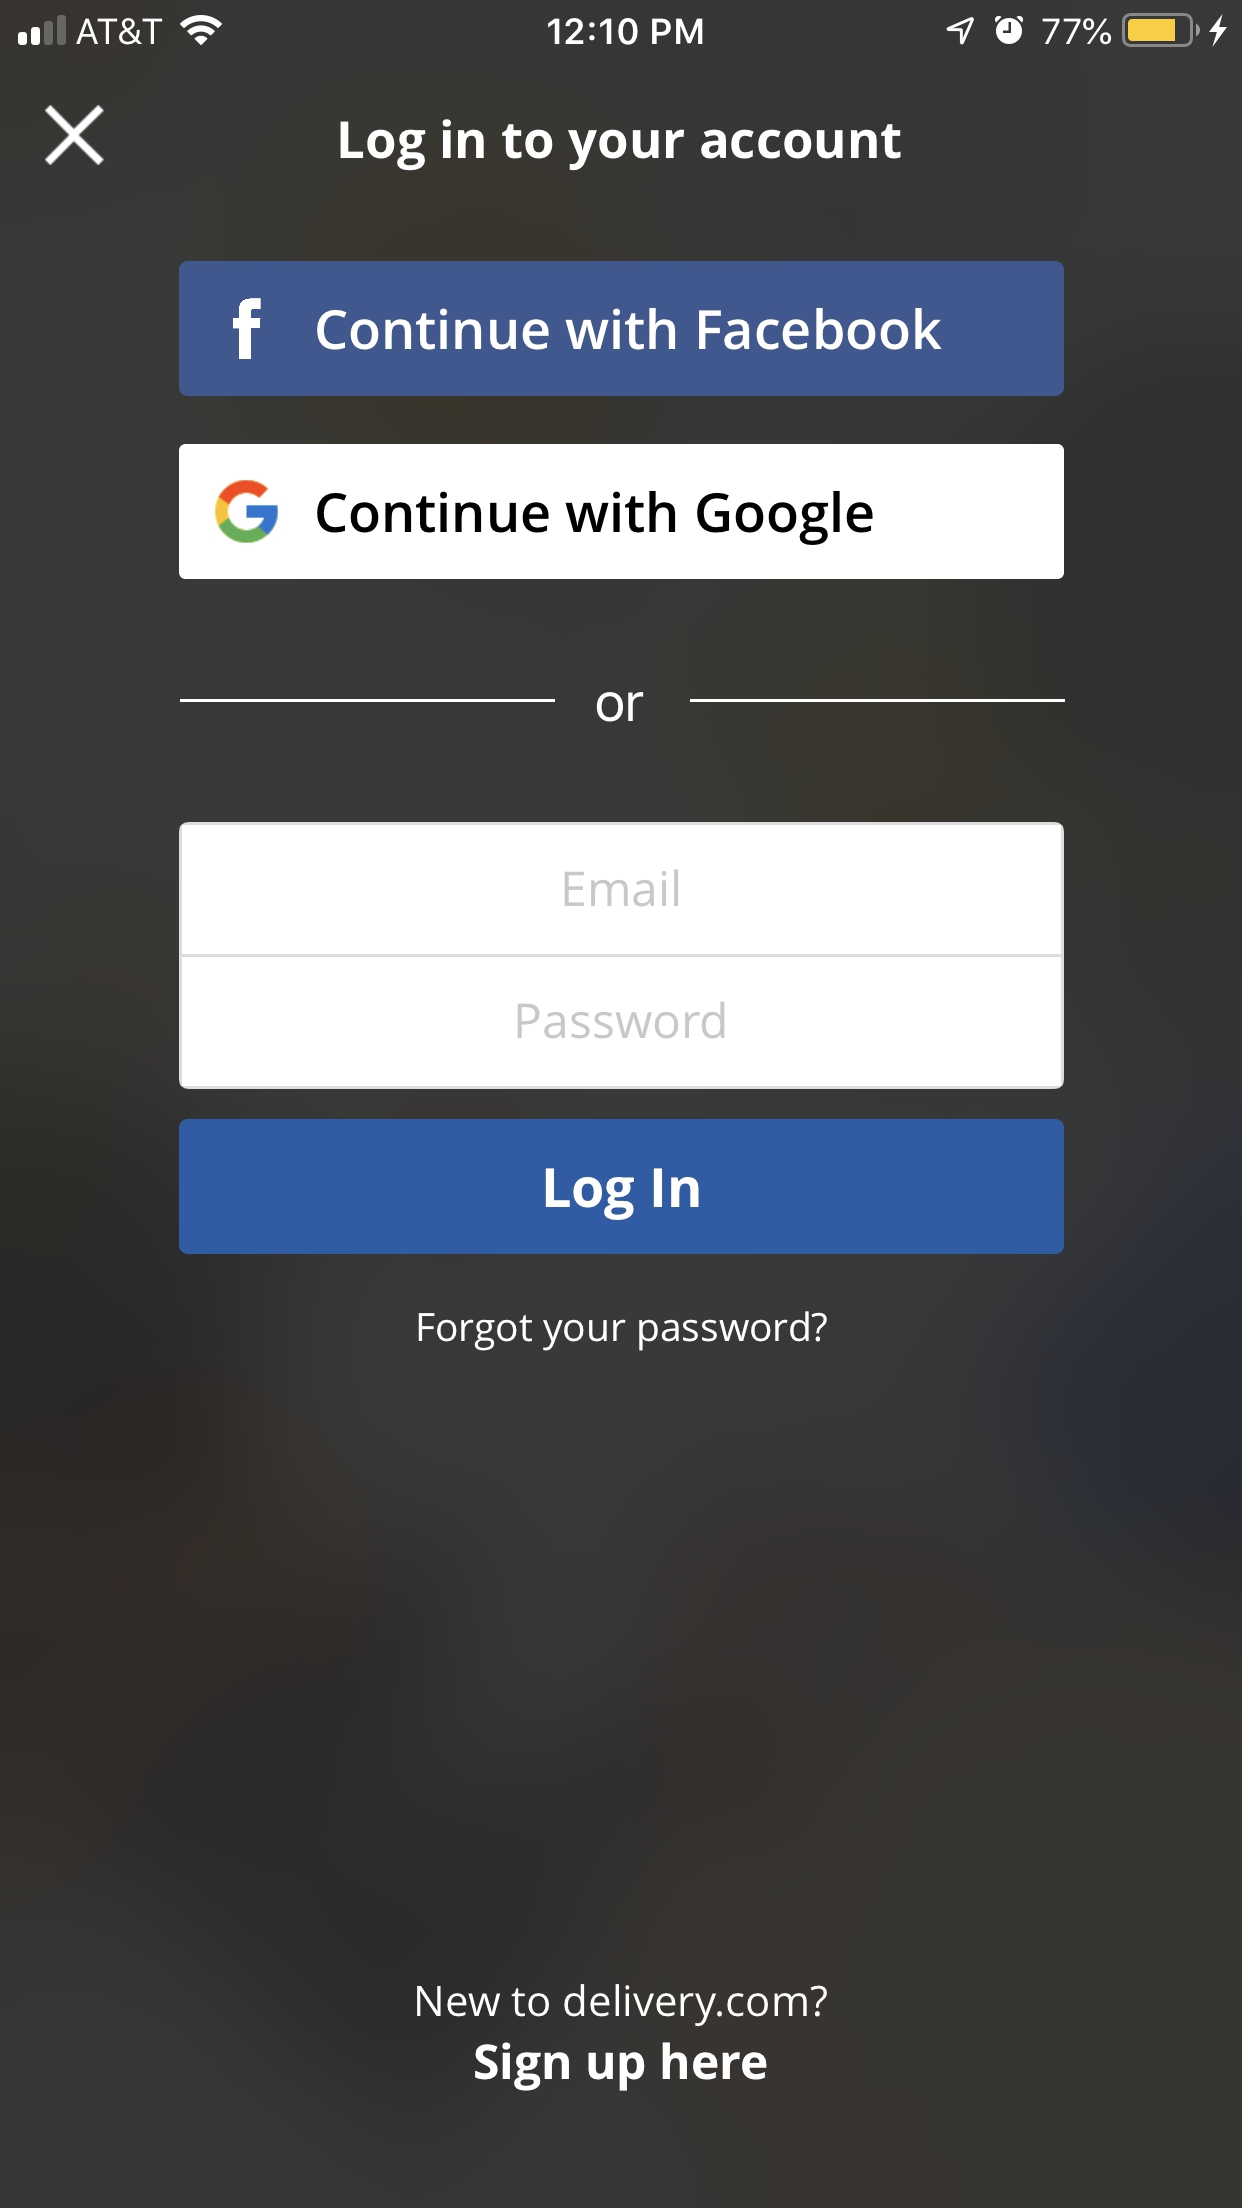EditText: (179, 955, 1065, 1090), (179, 823, 1065, 958)
Icon: (45, 105, 106, 167)
Text: (340, 118, 902, 171), (416, 1984, 828, 2028), (419, 1310, 830, 1353), (475, 2040, 767, 2093), (517, 1001, 726, 1040), (564, 869, 679, 908), (597, 692, 645, 723)
TextButton: (177, 1118, 1065, 1256), (177, 261, 1065, 397), (179, 444, 1065, 579)
UpperTaskBar: (2, 2, 1242, 49)
